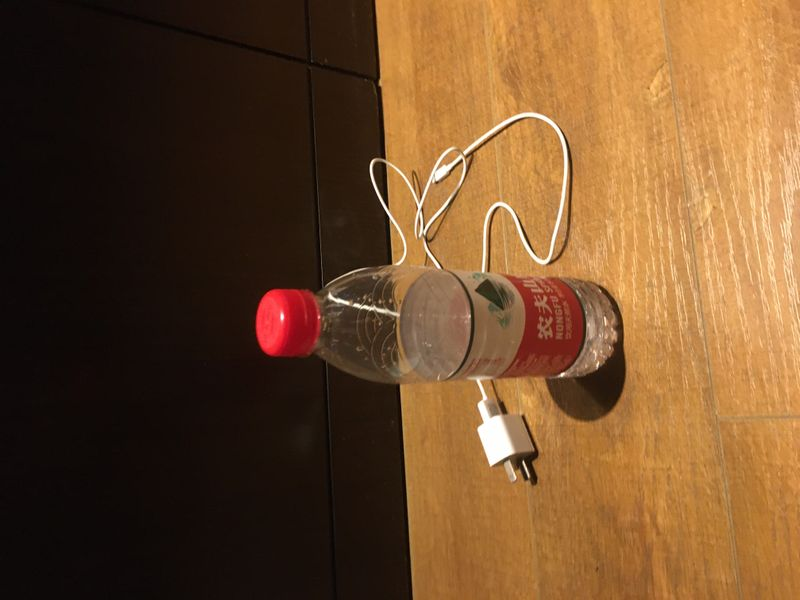5eca67a90202601e8cb8d104: (252, 265, 620, 385)
